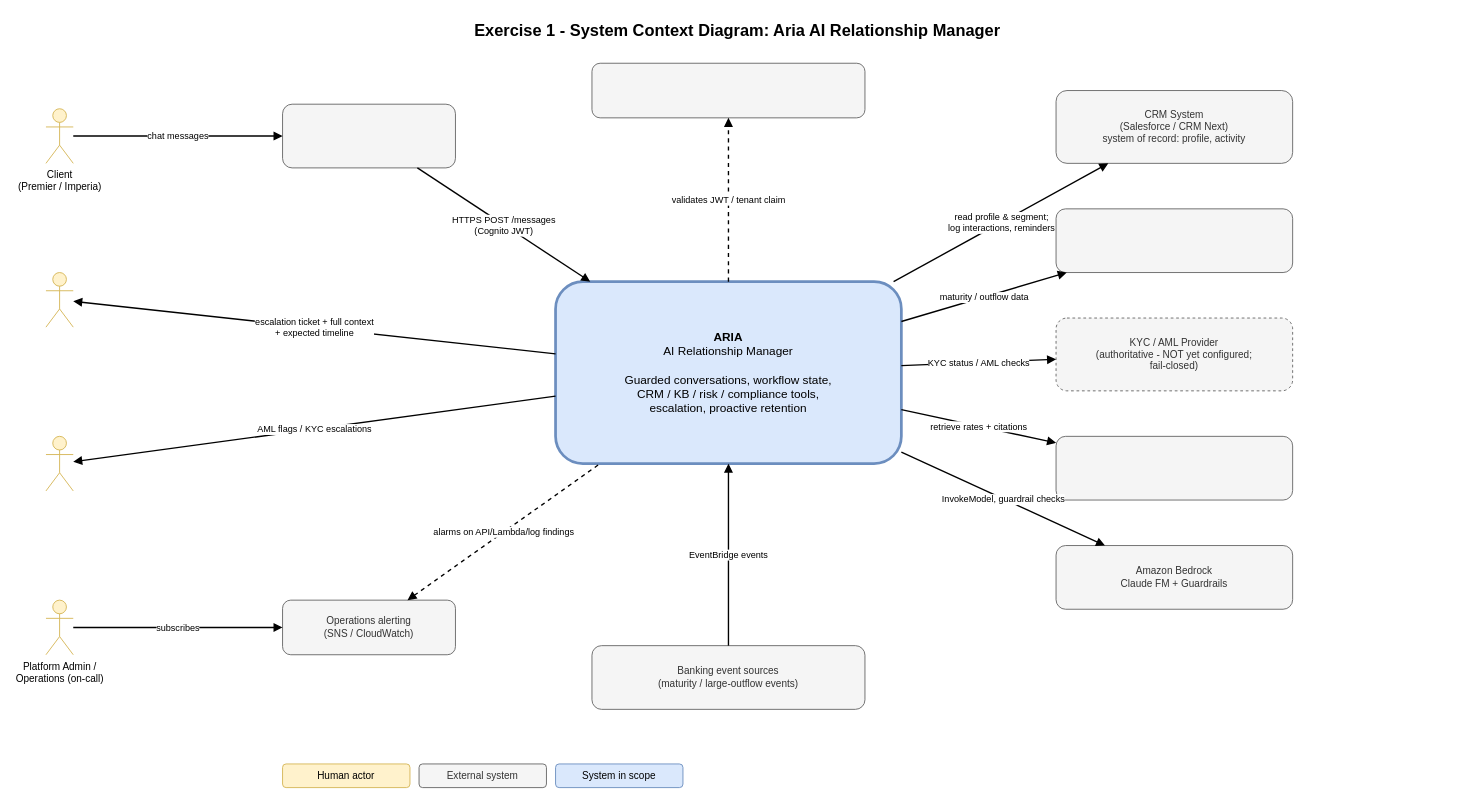
Some shapes in this 1463 by 804 pixel diagram are drawn without their labels. The box of each missing label's shape, as (x1, y1, x2, y2) in pixels:
Amazon Cognito (Identity Provider, JWT + tenant claim): (591, 62, 865, 118)
Bedrock Knowledge Base (rates, policies, source dates): (1055, 435, 1293, 500)
Compliance Officer: (45, 435, 73, 491)
Core Banking System (balances, maturities, outflows): (1055, 208, 1293, 273)
Human RM / Underwriter: (45, 272, 73, 327)
Web Chat UI / Mobile Banking App (channel apps): (282, 103, 455, 168)
